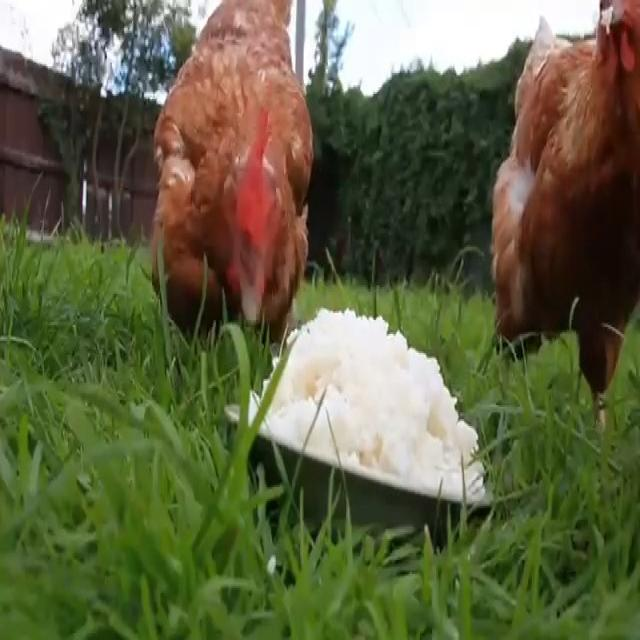feeding: (144, 0, 346, 323)
